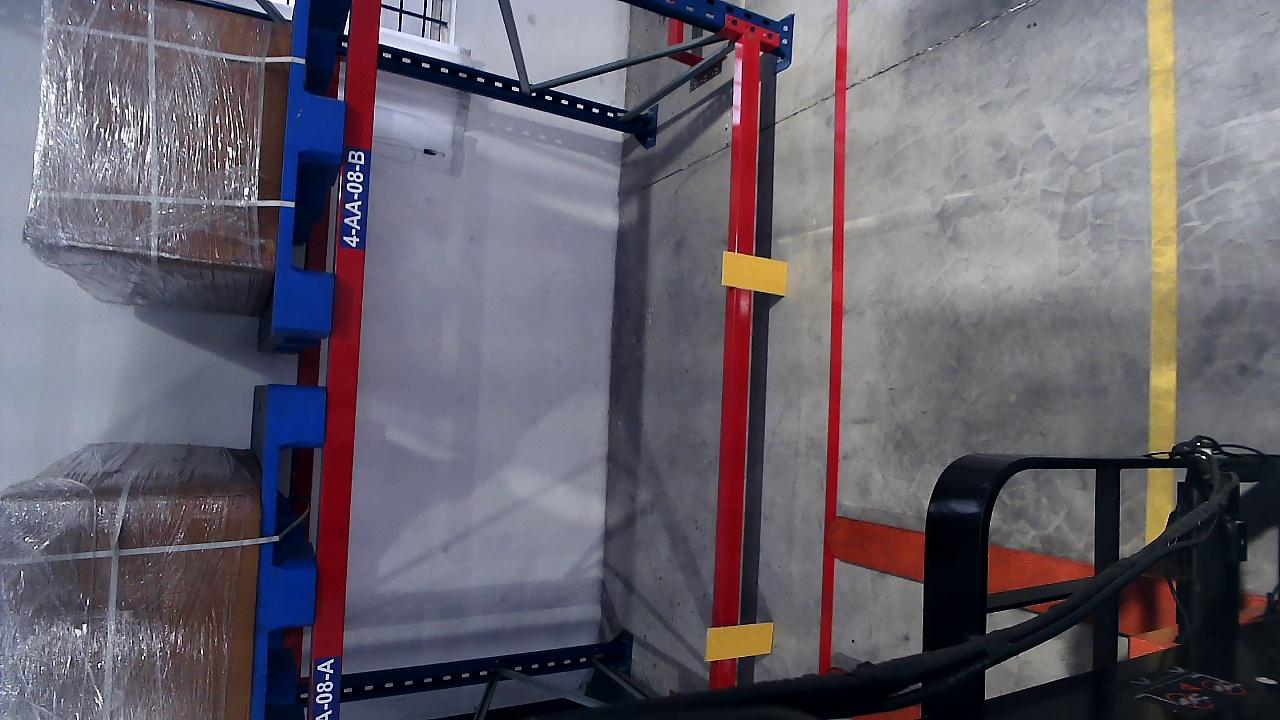h_rack: (311, 6, 380, 720), (711, 39, 764, 682)
orange_strip: (721, 250, 788, 295), (705, 621, 773, 660)
red_line: (815, 2, 850, 676)
small_pallet: (267, 1, 359, 329), (251, 386, 320, 720)
yellow_line: (1146, 6, 1182, 452)
